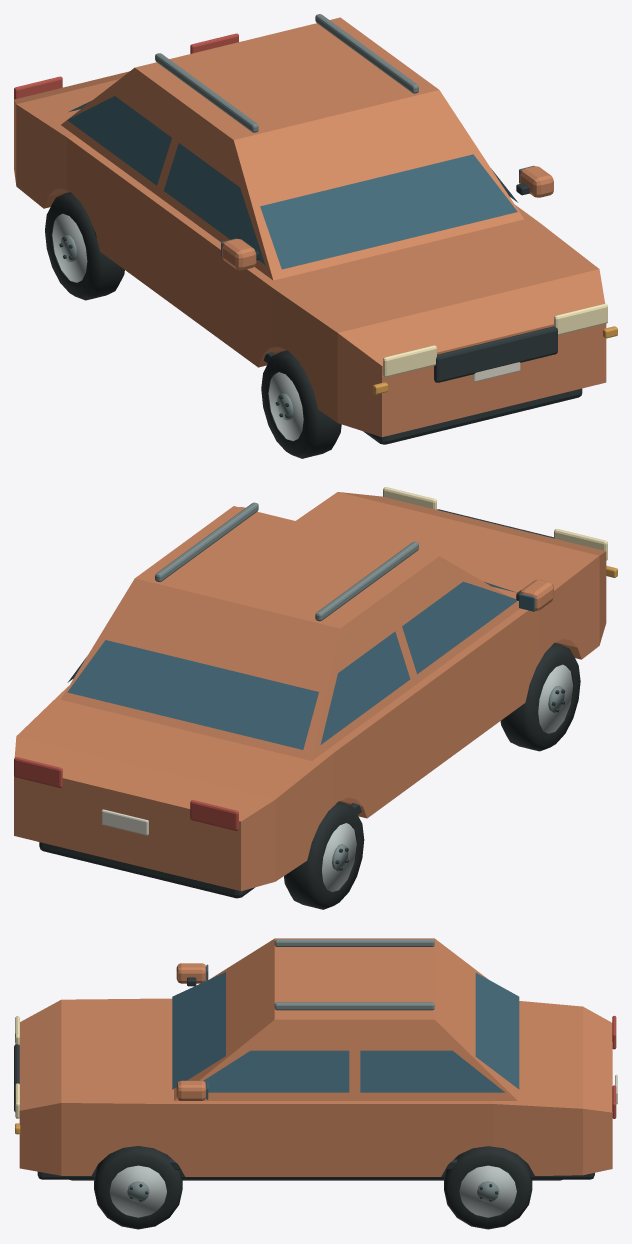
File: original-car-crossover-05.glb
3 views of the same model, one above another, from view 1: azimuth 30°, elevation 25°; view 2: azimuth 150°, elevation 25°; view 3: azimuth 270°, elevation 25° (orthographic). The views are drawn at different scales.
Parts seen in each view (by area): view 1: BodyShell, CabinShell, Windscreen, WindowFront, WindowRear, Tyre_FR, Tyre_RR, Grille, Frame, Rim_RR, Rim_FR, RoofRail (+6 smaller); view 2: BodyShell, CabinShell, RearGlass, WindowFront, WindowRear, Tyre_RR, Tyre_FR, Frame, Rim_FR, Rim_RR, RoofRail, RoofRail.001 (+6 smaller); view 3: BodyShell, CabinShell, WindowFront.001, WindowRear.001, Windscreen, RearGlass, Tyre_FL, Tyre_RL, Rim_RL, Rim_FL, Frame, RoofRail.001 (+4 smaller).
Part boxes in pixels (x1=…): BodyShell: x1=14, y1=71, x2=606, y2=437; CabinShell: x1=61, y1=17, x2=523, y2=280; Windscreen: x1=260, y1=154, x2=517, y2=269; WindowFront: x1=163, y1=143, x2=265, y2=264; WindowRear: x1=67, y1=96, x2=171, y2=185; Tyre_FR: x1=261, y1=350, x2=341, y2=458; Tyre_RR: x1=45, y1=192, x2=124, y2=300; Grille: x1=434, y1=326, x2=557, y2=382; Frame: x1=363, y1=388, x2=582, y2=444; Rim_RR: x1=52, y1=213, x2=87, y2=282; Rim_FR: x1=268, y1=372, x2=303, y2=440; RoofRail: x1=155, y1=53, x2=258, y2=132; BodyShell: x1=14, y1=492, x2=606, y2=891; CabinShell: x1=61, y1=506, x2=519, y2=760; RearGlass: x1=67, y1=640, x2=318, y2=749; WindowFront: x1=402, y1=581, x2=517, y2=674; WindowRear: x1=320, y1=631, x2=410, y2=744; Tyre_RR: x1=284, y1=801, x2=364, y2=909; Tyre_FR: x1=500, y1=643, x2=580, y2=751; Frame: x1=39, y1=842, x2=254, y2=898; Rim_FR: x1=538, y1=664, x2=573, y2=733; Rim_RR: x1=322, y1=823, x2=356, y2=891; RoofRail: x1=315, y1=541, x2=418, y2=621; RoofRail.001: x1=155, y1=502, x2=258, y2=581; BodyShell: x1=19, y1=998, x2=612, y2=1176; CabinShell: x1=174, y1=938, x2=517, y2=1100; WindowFront.001: x1=203, y1=1050, x2=349, y2=1092; WindowRear.001: x1=360, y1=1050, x2=504, y2=1092; Windscreen: x1=172, y1=972, x2=225, y2=1089; RearGlass: x1=475, y1=973, x2=519, y2=1089; Tyre_FL: x1=94, y1=1146, x2=182, y2=1229; Tyre_RL: x1=444, y1=1146, x2=532, y2=1229; Rim_RL: x1=459, y1=1165, x2=516, y2=1217; Rim_FL: x1=109, y1=1165, x2=166, y2=1217; Frame: x1=37, y1=1163, x2=594, y2=1179; RoofRail.001: x1=274, y1=1002, x2=434, y2=1010.
Size of the model in its own units: 2.18 by 1.68 by 4.43.
